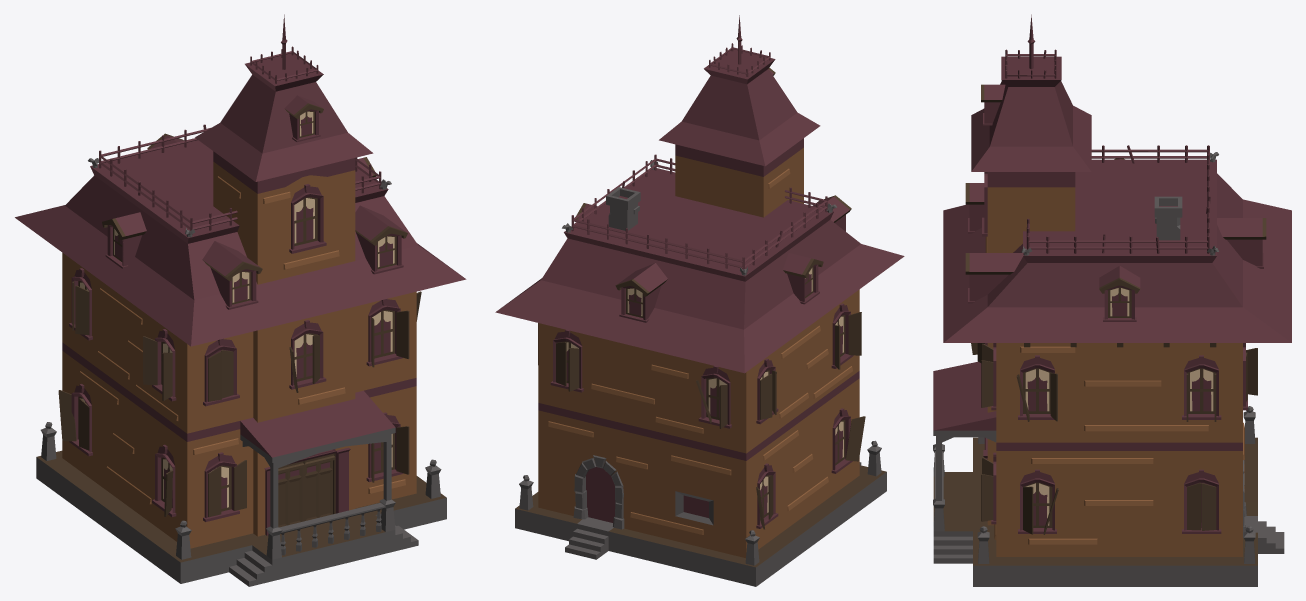
Rendered from building-haunted-house.fbx.
3 views of the same model, side by side, from view 1: azimuth 30°, elevation 25°; view 2: azimuth 150°, elevation 25°; view 3: azimuth 270°, elevation 25° (orthographic). The views are drawn at different scales.
Parts seen in each view (by area): view 1: building-haunted-house; view 2: building-haunted-house; view 3: building-haunted-house.
Boxes of the visible parts, x1,y1,x2,y2 form: building-haunted-house: (15,14,466,586); building-haunted-house: (495,15,904,586); building-haunted-house: (933,14,1291,586).
Bounding box in the file's own units: 10.74 × 19.2 × 12.27.
